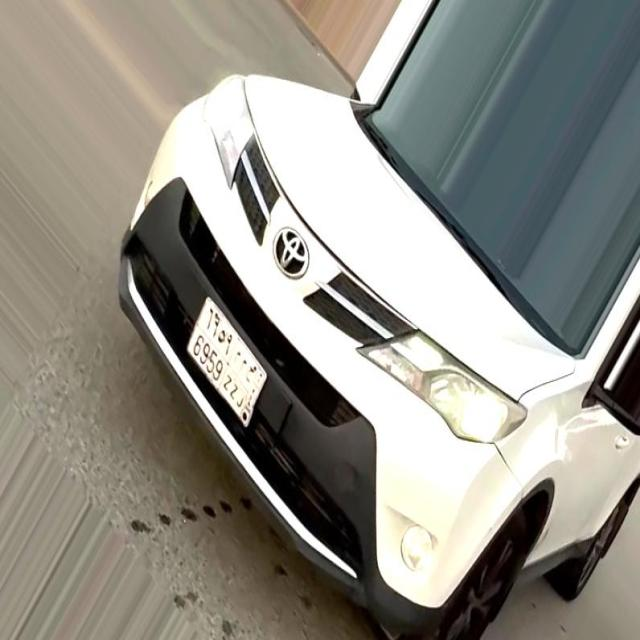Car-plate: (176, 274, 279, 437)
